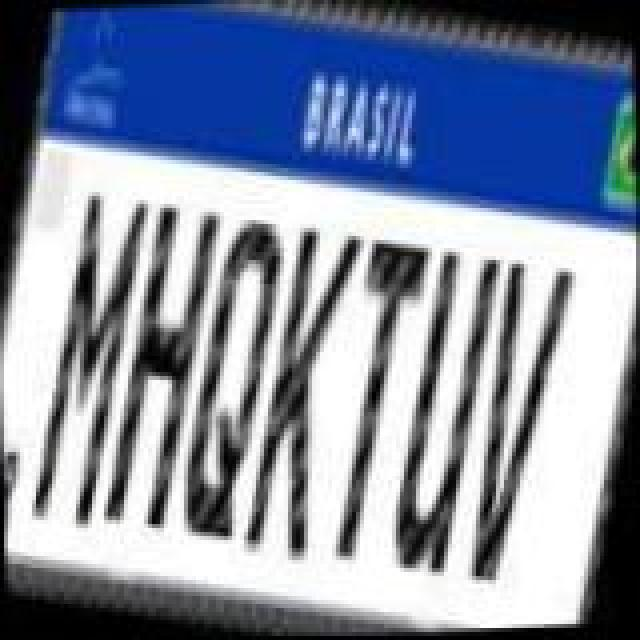H: (88, 194, 232, 534)
K: (226, 214, 374, 562)
M: (14, 184, 162, 532)
Q: (162, 210, 302, 546)
T: (300, 234, 440, 570)
U: (372, 244, 512, 584)
V: (440, 258, 588, 598)
